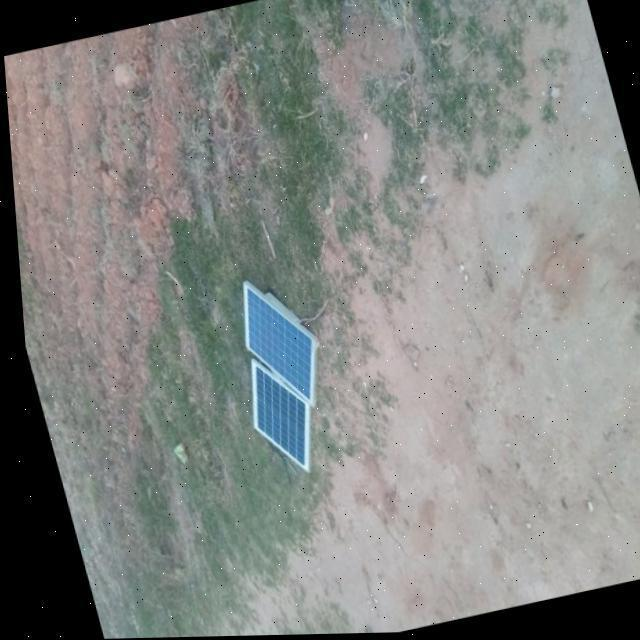Normal Solar Panel: (224, 272, 324, 418), (230, 352, 318, 482)
